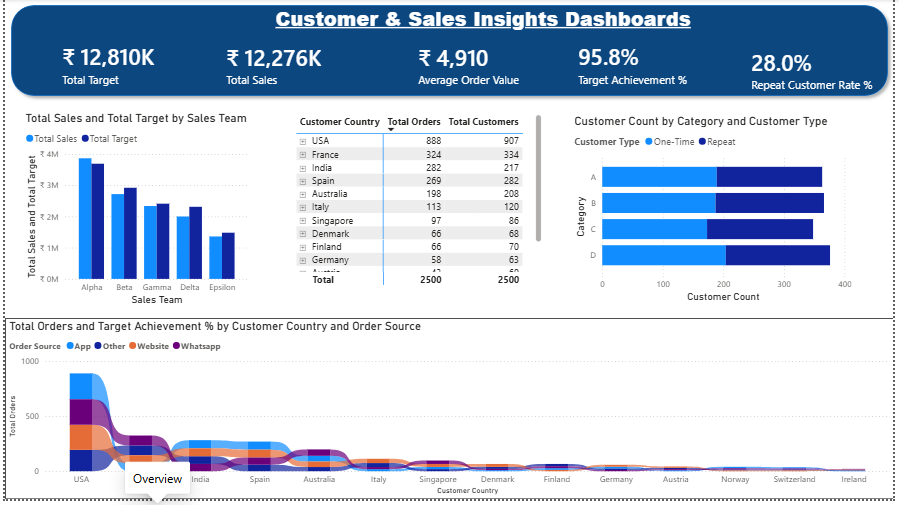

What the dashboard file says about the page in this screenshot:
{"tool":"powerbi","page":{"name":"Overview","canvas":[1280,720],"ordinal":0},"visuals":[{"type":"shape","box":[0,0,1280.2,148.3],"z":0},{"type":"clusteredColumnChart","fields":{"Category":["Sales Targets.Sales Team"],"Y":["Measures_List.Total Sales","Measures_List.Total Target"]},"box":[24.5,161.3,331.2,285.1],"z":1000},{"type":"pivotTable","fields":{"Rows":["Customers.Customer Country","Sales Targets.Sales Manager"],"Values":["Measures_List.Total Orders","Measures_List.Total Customers"]},"box":[414.7,161.3,362.9,256.3],"z":2000},{"type":"ribbonChart","fields":{"Category":["Customers.Customer Country"],"Series":["Orders.Order Source"],"Y":["Measures_List.Total Orders"]},"box":[0,459.4,1280.2,260.6],"z":3000},{"type":"barChart","fields":{"Series":["Customer Type.Customer Type"],"Y":["Measures_List.Customer Count"],"Category":["Customers.Category"]},"box":[815,165.6,409,276.5],"z":4000},{"type":"cardVisual","fields":{"Data":["Measures_List.Total Target"]},"box":[53.3,33.1,213.1,121],"z":5000},{"type":"cardVisual","fields":{"Data":["Measures_List.Target Achievement %"]},"box":[795.8,33.1,226.1,121],"z":6000},{"type":"cardVisual","fields":{"Data":["Measures_List.Total Sales"]},"box":[289.8,25.9,253.4,135.4],"z":7000},{"type":"cardVisual","fields":{"Data":["Measures_List.Average Order Value"]},"box":[566.6,25.9,205.9,135.4],"z":8000},{"type":"cardVisual","fields":{"Data":["Measures_List.Repeat Customer Rate %"]},"box":[1045.3,33.1,234.7,135.4],"z":9000},{"type":"textbox","title":"Customer & Sales Insights Dashboards","box":[384.5,7.2,720,46.1],"z":10000}]}

Visuals, with their boxes on the page's 1280x720 design canvas (x1, y1, x2, y2). These are canvas units, not pixel positions in the 904x510 screenshot, which may show the page scaled, cropped or inside an application window:
shape: 0/0/1280/148
clusteredColumnChart - Sales Targets.Sales Team x Measures_List.Total Sales: 24/161/356/446
pivotTable - Customers.Customer Country x Sales Targets.Sales Manager: 415/161/778/418
ribbonChart - Customers.Customer Country x Orders.Order Source: 0/459/1280/720
barChart - Customer Type.Customer Type x Measures_List.Customer Count: 815/166/1224/442
cardVisual - Measures_List.Total Target: 53/33/266/154
cardVisual - Measures_List.Target Achievement %: 796/33/1022/154
cardVisual - Measures_List.Total Sales: 290/26/543/161
cardVisual - Measures_List.Average Order Value: 567/26/772/161
cardVisual - Measures_List.Repeat Customer Rate %: 1045/33/1280/168
"Customer & Sales Insights Dashboards" textbox: 384/7/1104/53
